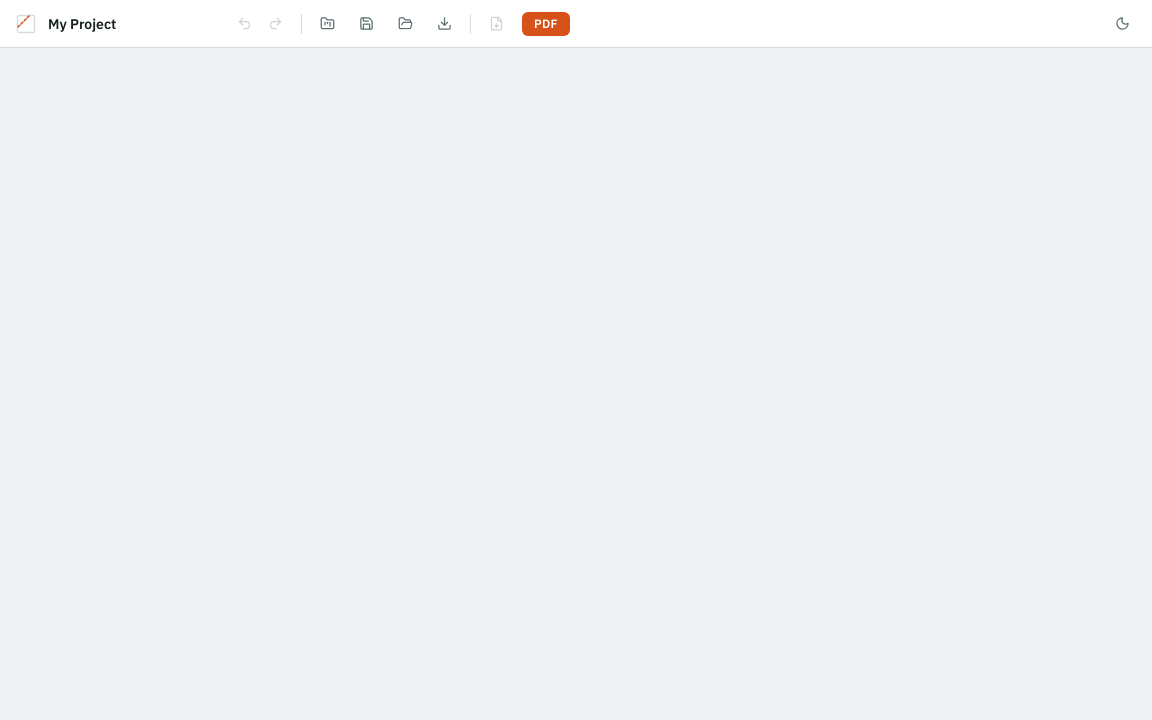
Test case: Toolbar › closes the PDF options panel on an outside click, unlike a toggle requiring a second click on the button
Click the button "PDF" at (546, 24), box [522, 12, 570, 36]
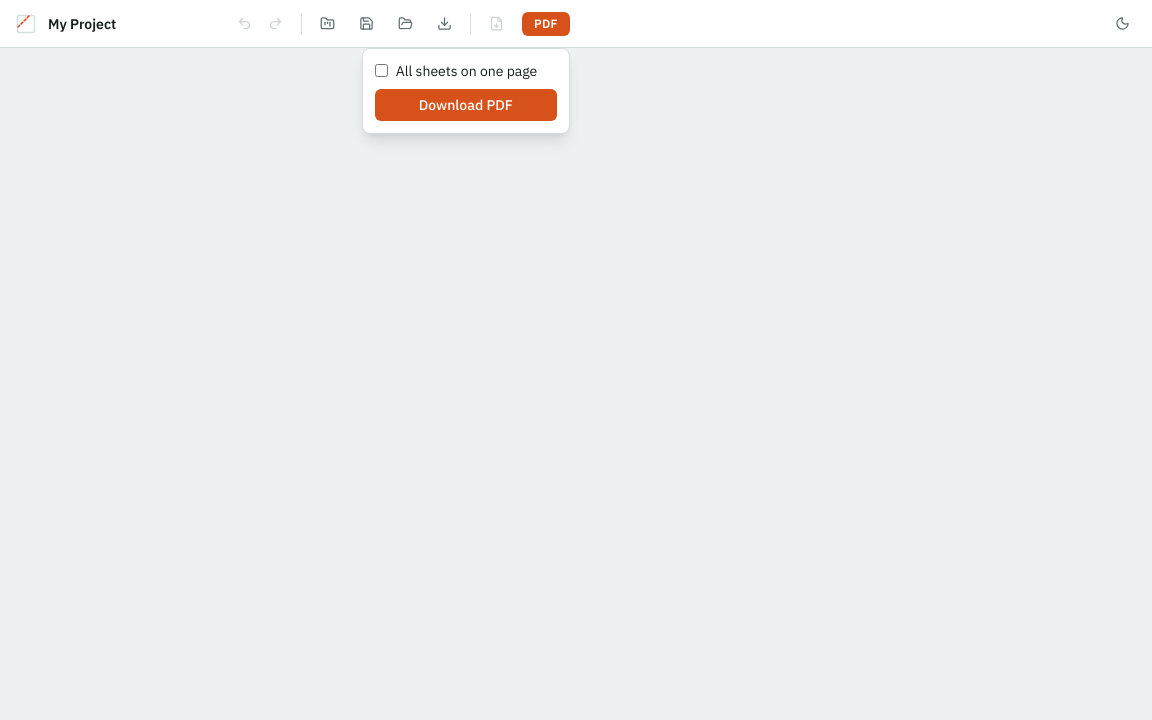
Press the mouse on the element showing "PDF All sheets on one page Download PDF" at (576, 360), box [0, 0, 1151, 719]
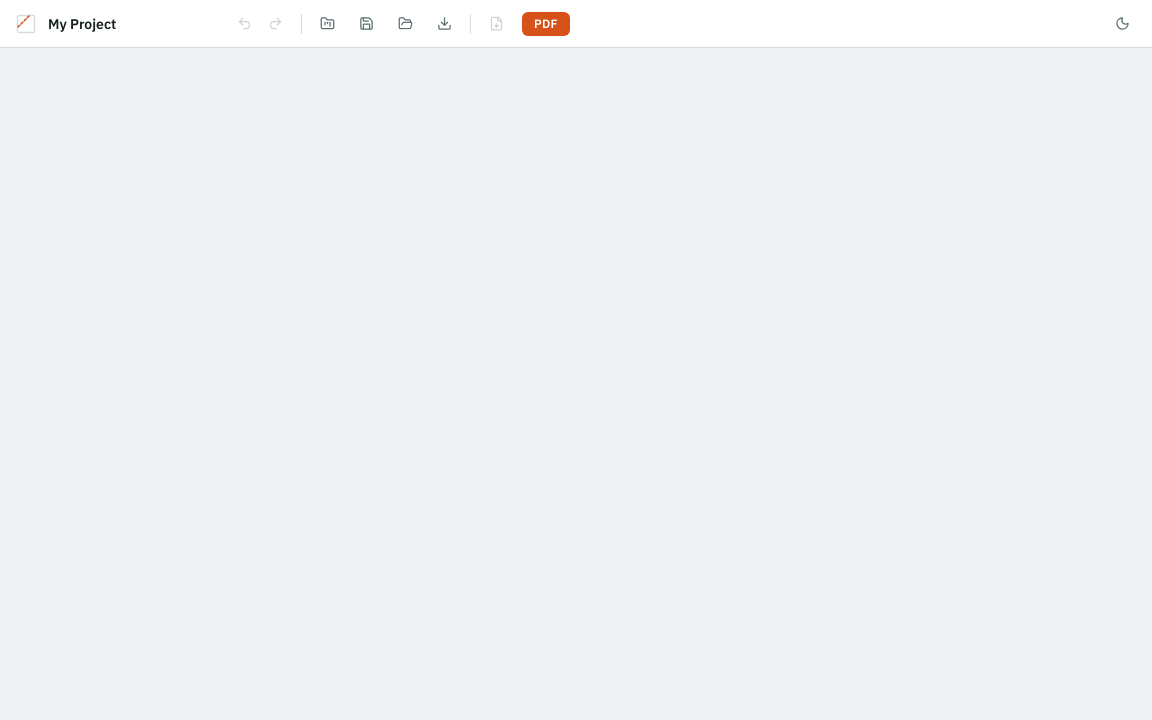
Expected: the button "Download PDF" is gone
